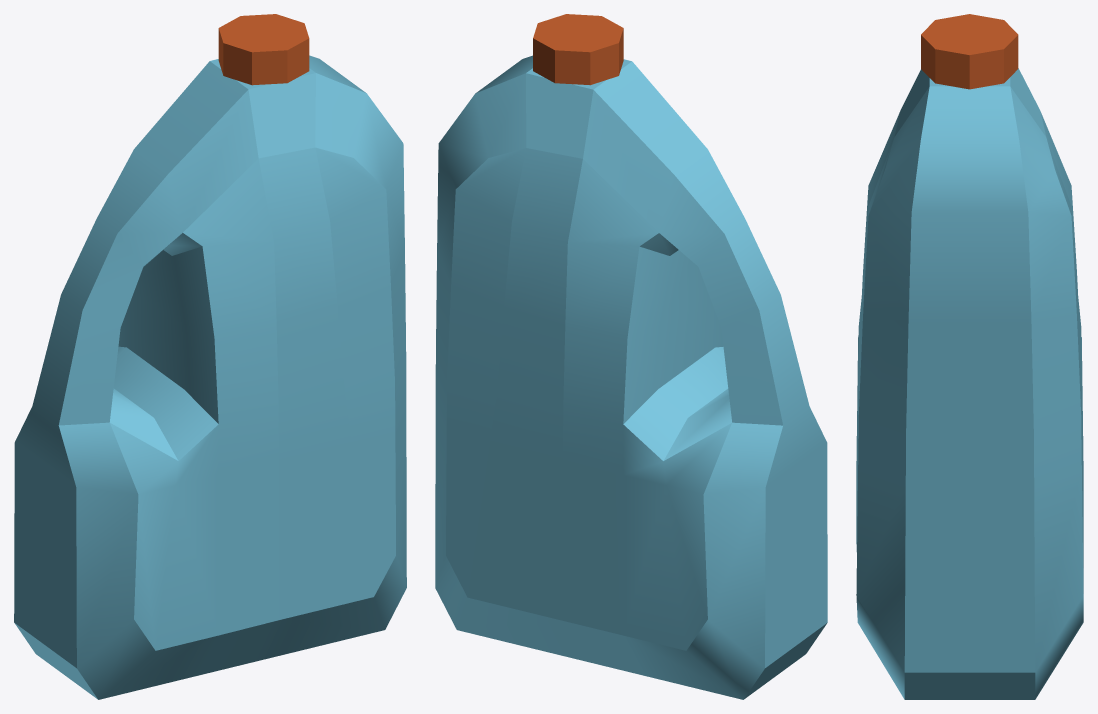
File: Cleaner.fbx
3 renders of one model, left to right at view 1: azimuth 30°, elevation 25°; view 2: azimuth 150°, elevation 25°; view 3: azimuth 270°, elevation 25°, orthographic. The views are drawn at different scales.
Visible parts, largest first — view 1: Cleaner; view 2: Cleaner; view 3: Cleaner.
Boxes of the visible parts, x1,y1,x2,y2 form: Cleaner: (14,14,406,699); Cleaner: (435,14,827,699); Cleaner: (856,14,1083,699).
Bounding box in the file's own units: 5.29 × 9.13 × 3.03.
